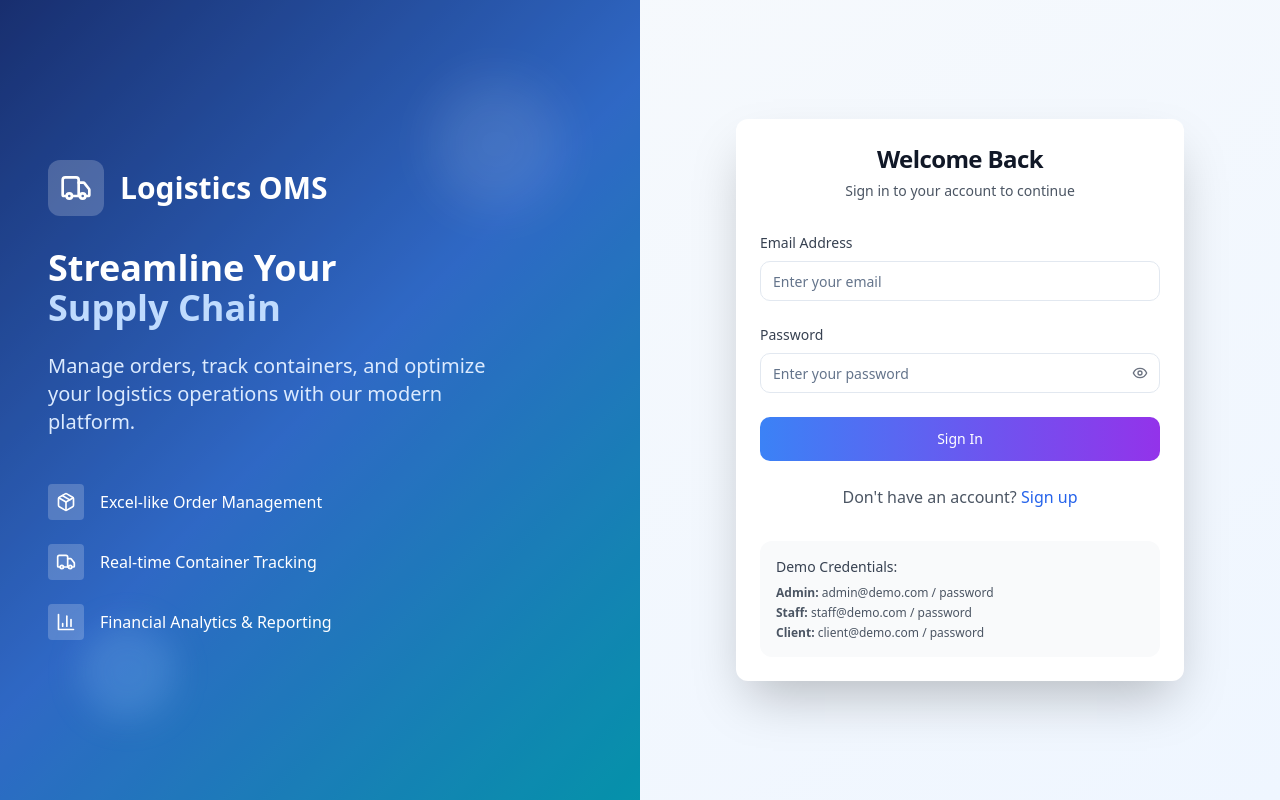
Login Component - All Elements and Buttons › Form Validation Tests › validates short password
The image size is (1280, 800).
Type "123" into the password field with placeholder "Enter your password". click: (960, 373)
box: [760,353,1160,393]
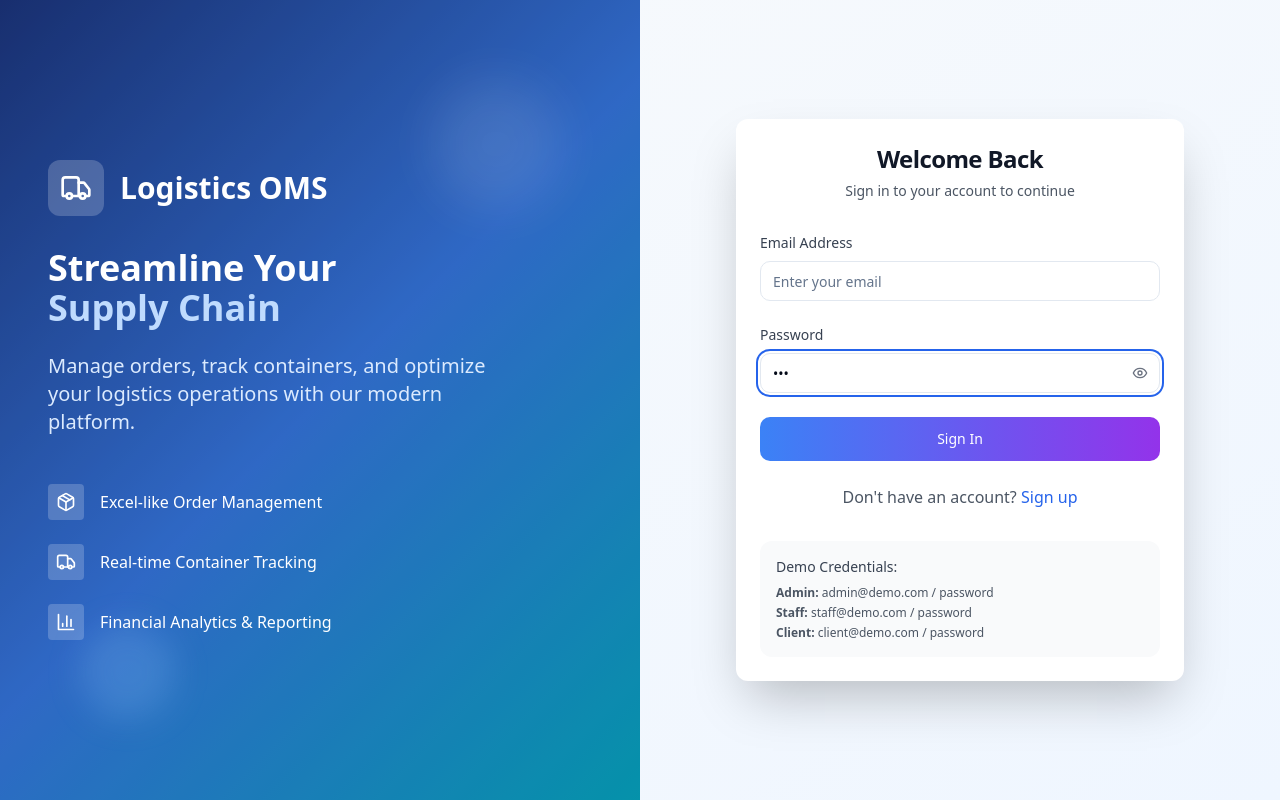
Click the button "Sign In". click: (960, 439)
box: [760,417,1160,461]
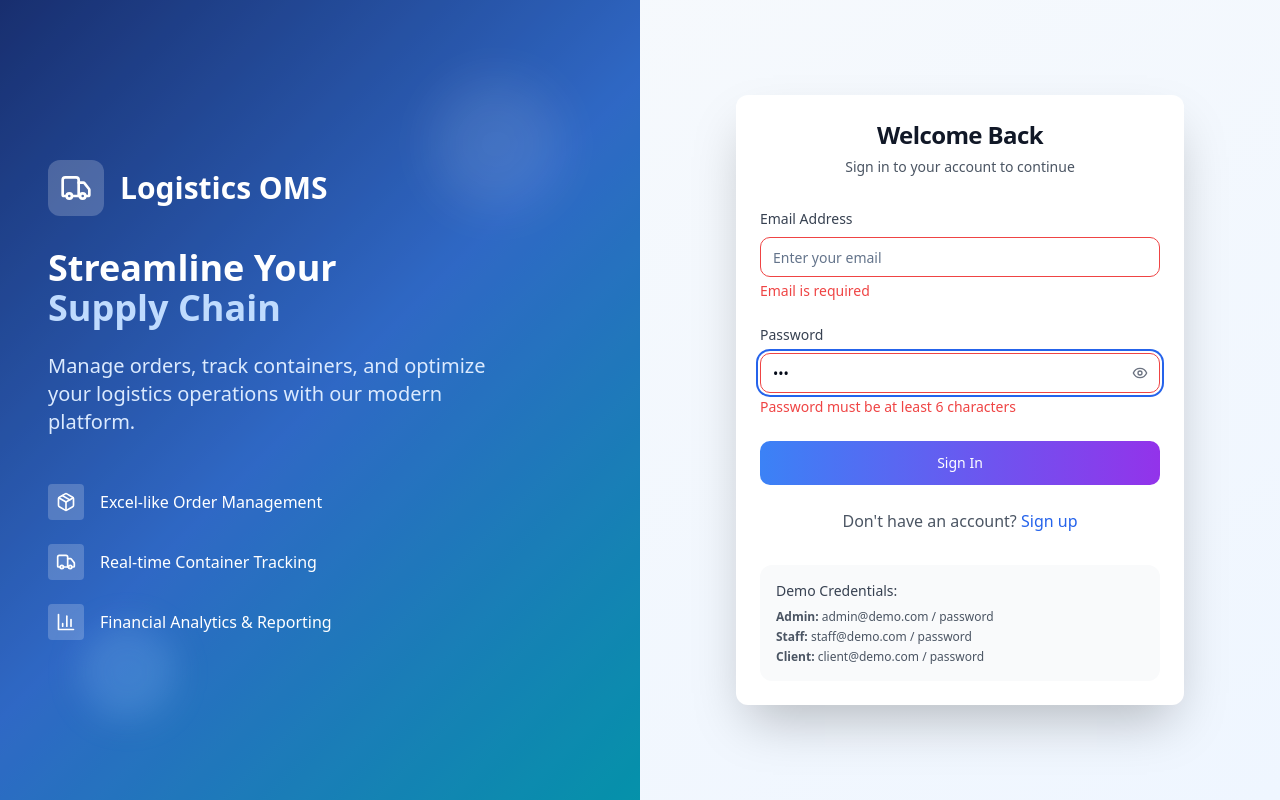
Result: the text "Password must be at least 6 characters" is shown at [760,397,1016,416]
